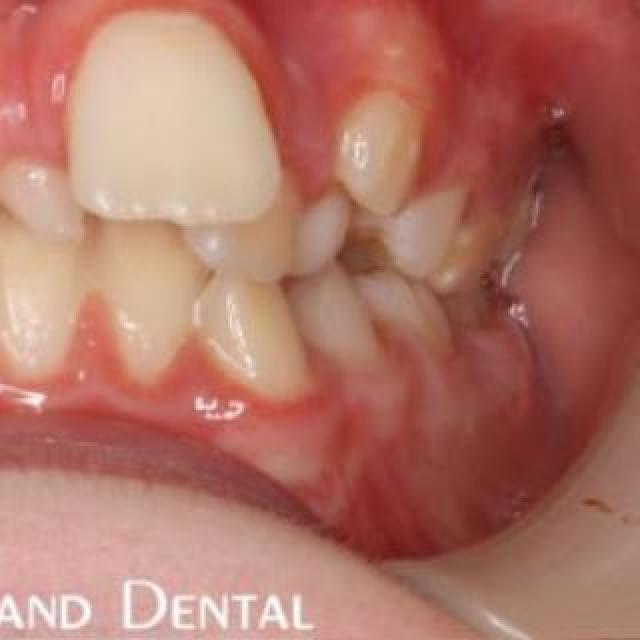maligned: (61, 20, 291, 224), (177, 151, 325, 279), (324, 71, 440, 215), (0, 132, 94, 278)
